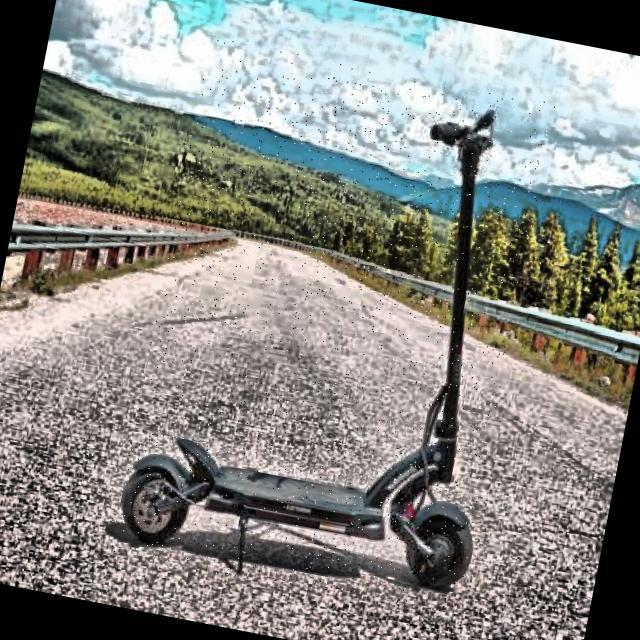bike: (119, 110, 497, 592)
